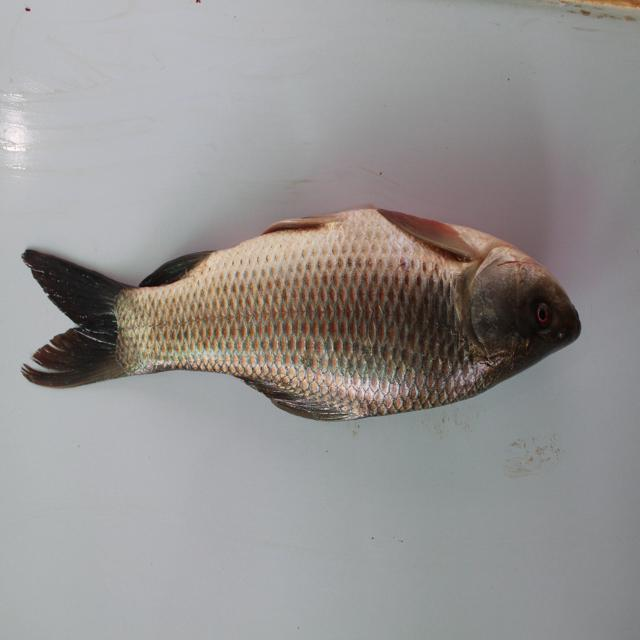Grass Carp: (27, 208, 571, 442)
